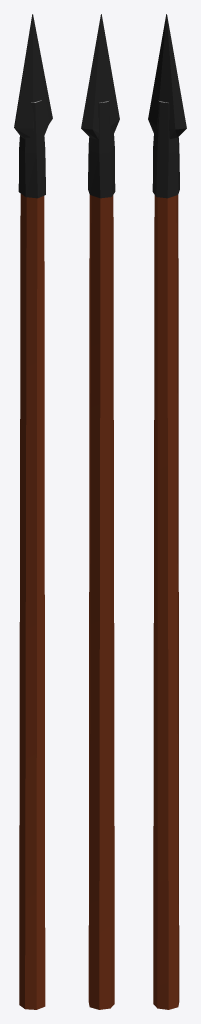
The model's file is Spear.fbx.
The picture shows the model from 3 angles, left to right: view 1: azimuth 30°, elevation 25°; view 2: azimuth 210°, elevation 25°; view 3: azimuth 330°, elevation 25°; orthographic projection.
Visible parts, largest first — view 1: Spear; view 2: Spear; view 3: Spear.
Boxes of the visible parts, bbox=[...] form: Spear: bbox=[14, 14, 52, 1009]; Spear: bbox=[81, 14, 119, 1009]; Spear: bbox=[148, 14, 186, 1009].
Size of the model in its own units: 0.1576 by 3.86 by 0.1103.
